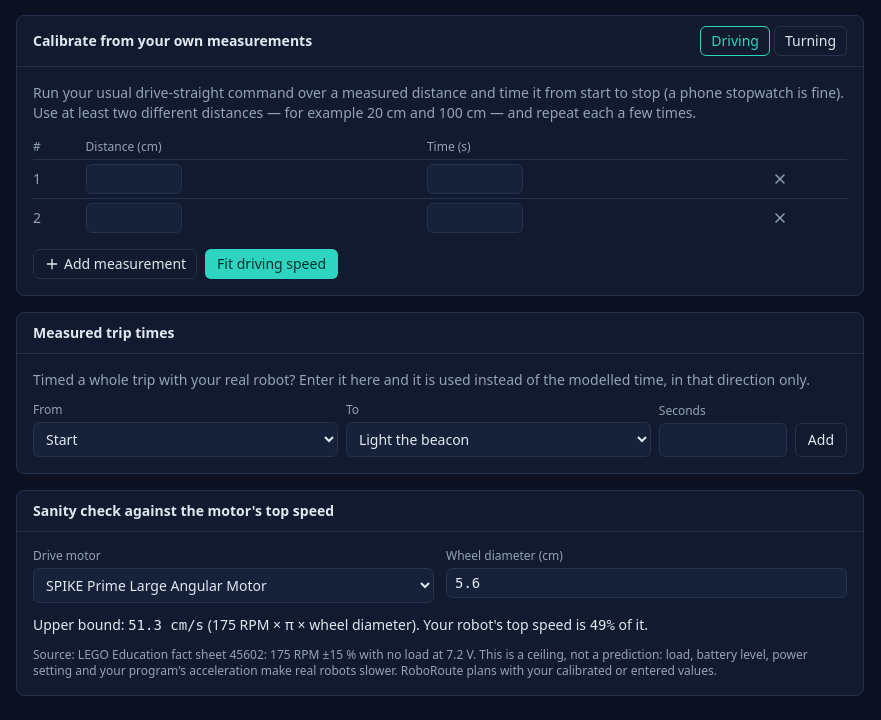
RobotPage trip times › refuses a time that is not a positive number
The image size is (881, 720).
(page scrolled)
In the field labelled "Seconds": (723, 440) [659, 423, 787, 457], type "-3"
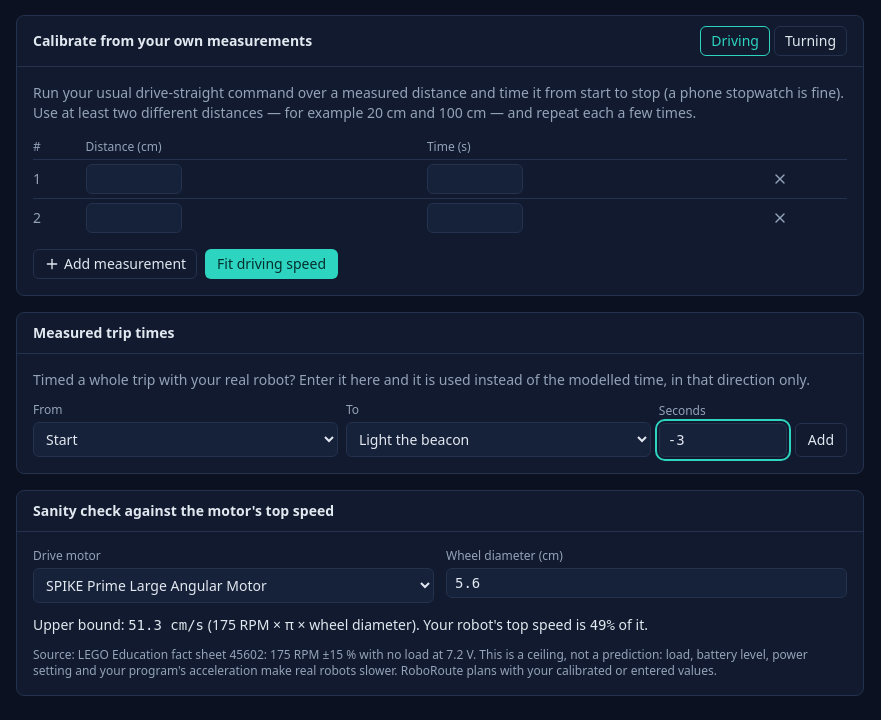
Click the button "Add": (821, 440) [795, 423, 847, 457]
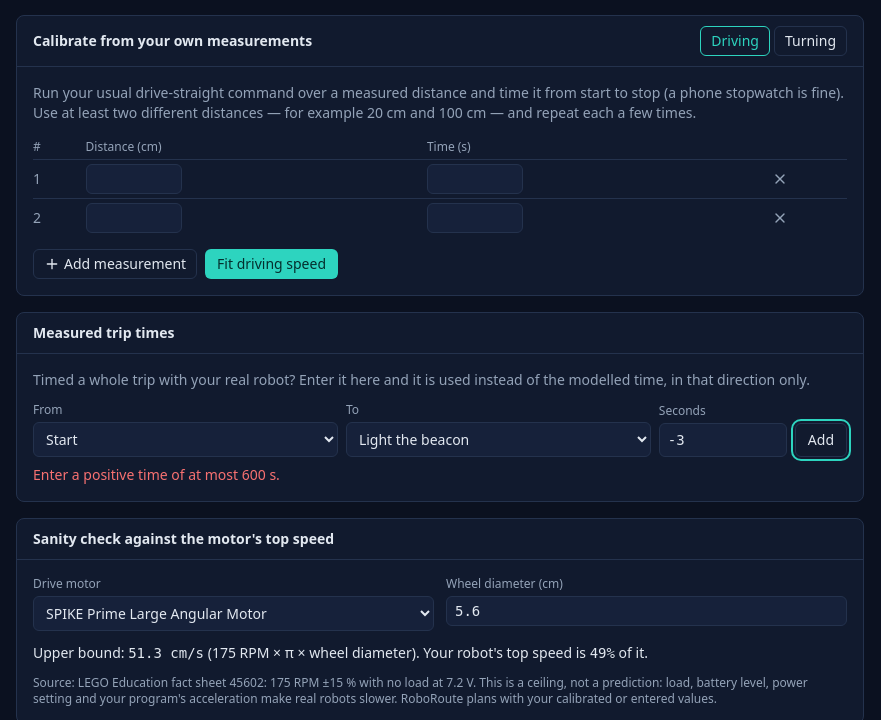
Expected: the message shows "positive", [33, 465, 280, 484]
